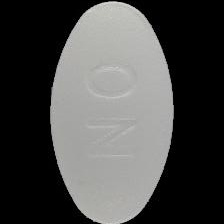51655-800: (0, 0, 224, 224)
